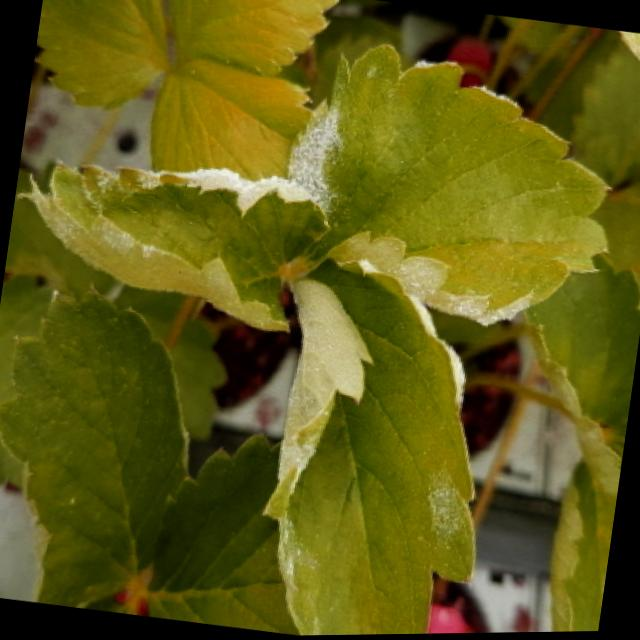Powdery Mildew Leaf: (284, 42, 614, 330), (257, 258, 477, 637), (14, 158, 332, 333)
